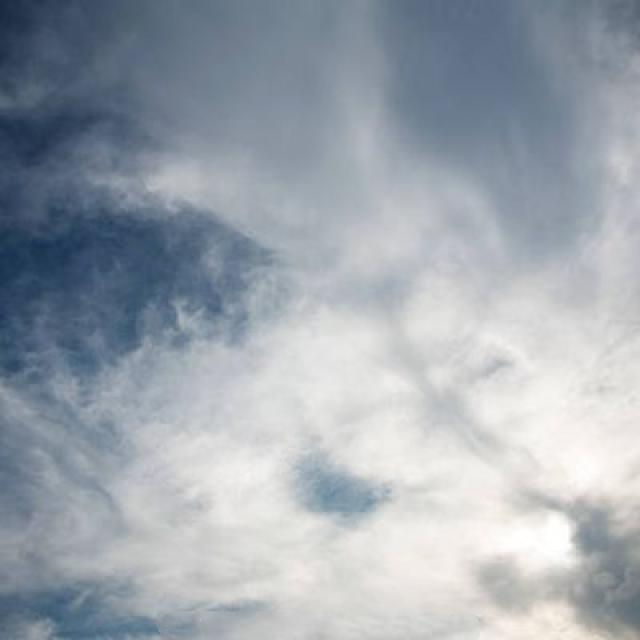Ns: (1, 37, 640, 559)
